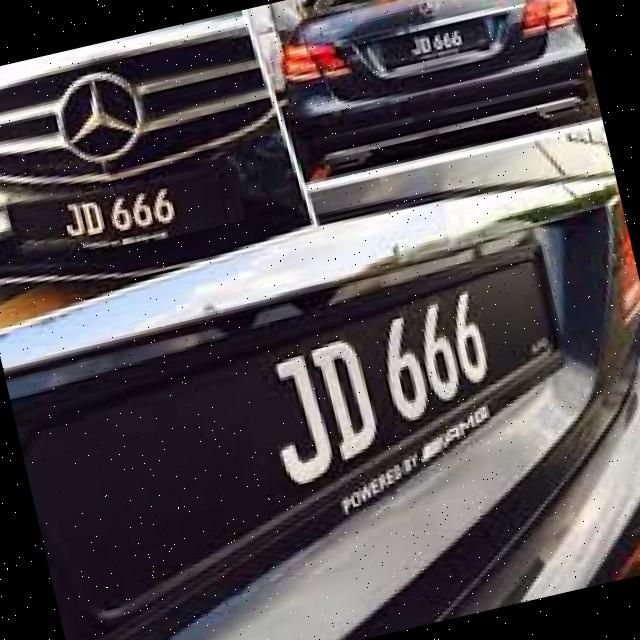License_Plate: (8, 227, 626, 640), (1, 155, 249, 277), (367, 11, 500, 78)
